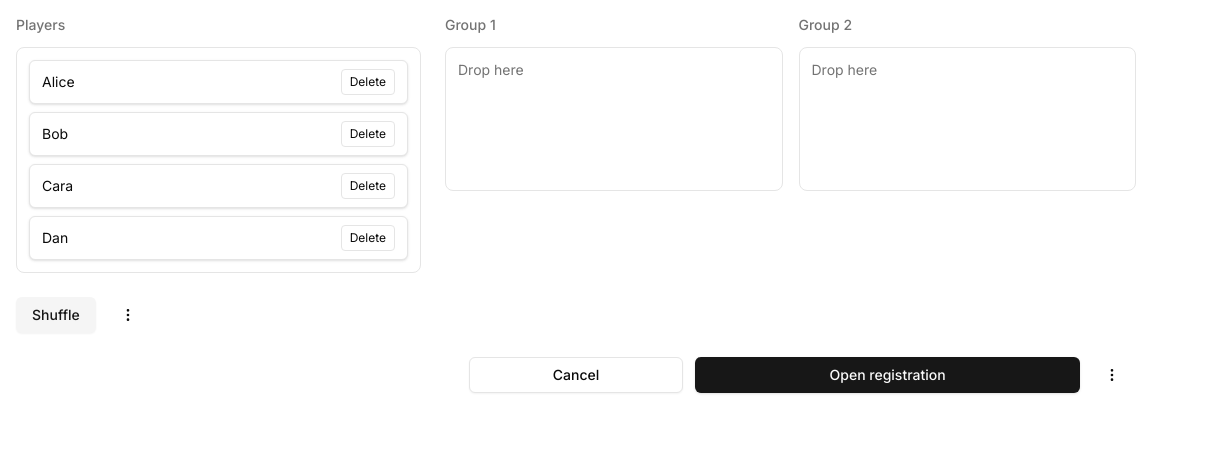
Test: TeamsAssignment component › disables Start initially and renders 2 groups (Arrange-Act-Assert)
Expected: the number of headings "Group 1" is 2, x1=445 y1=16 x2=496 y2=33; x1=798 y1=16 x2=852 y2=33
Click the button named "more actions" at (1112, 375), box x1=1088 y1=357 x2=1136 y2=393
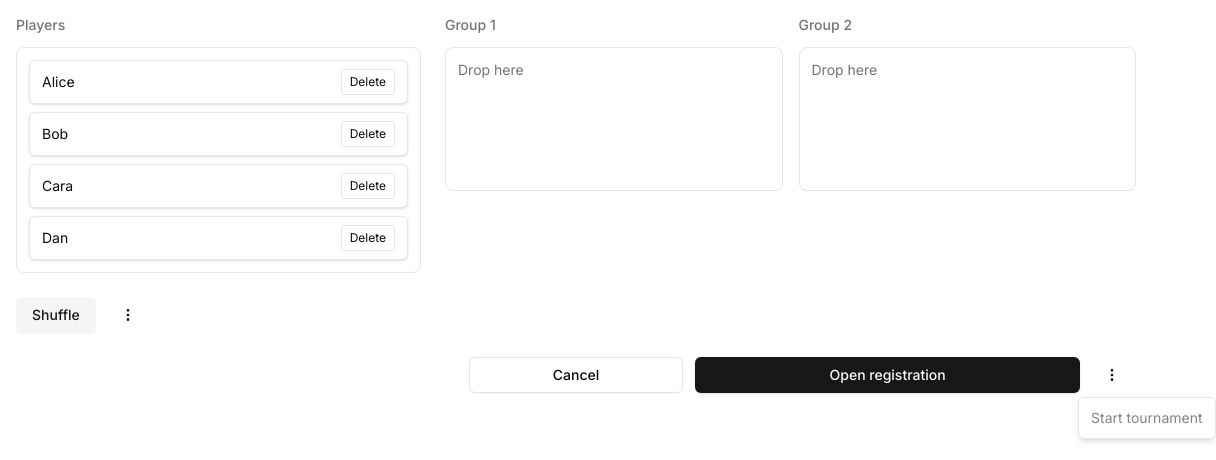
Expected: the menu item "Start tournament" is disabled, x1=1083 y1=402 x2=1210 y2=434
